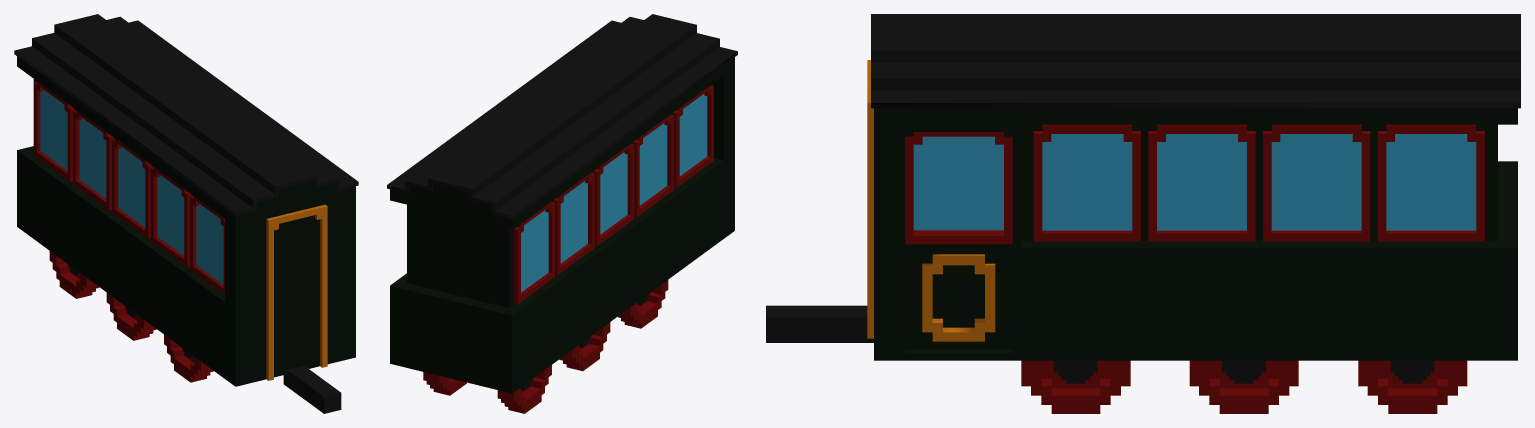
Rendered from Train_vagon_green.FBX.
3 renders of one model, left to right at view 1: azimuth 30°, elevation 25°; view 2: azimuth 150°, elevation 25°; view 3: azimuth 270°, elevation 25°, orthographic. The views are drawn at different scales.
Parts seen in each view (by area): view 1: train_vagon_door, train_vagon_roof, Vagon_green, Box001, train_tire_013, train_tire_015, train_tire_011; view 2: train_vagon_door, train_vagon_roof, Vagon_green, train_tire_013, train_tire_011, train_tire_015, train_tire_012; view 3: train_vagon_door, Vagon_green, train_vagon_roof, train_tire_012, train_tire_014, train_tire_010, Box001.
Boxes of the visible parts, box(x1,y1,x2,y2) form: train_vagon_door: box(17, 56, 355, 386); train_vagon_roof: box(14, 14, 358, 215); Vagon_green: box(34, 81, 327, 380); Box001: box(283, 366, 341, 413); train_tire_013: box(49, 251, 99, 298); train_tire_015: box(106, 293, 156, 340); train_tire_011: box(164, 334, 213, 382); train_vagon_door: box(390, 57, 734, 393); train_vagon_roof: box(387, 14, 737, 219); Vagon_green: box(513, 85, 713, 304); train_tire_013: box(497, 365, 551, 413); train_tire_011: box(618, 280, 668, 328); train_tire_015: box(559, 322, 610, 371); train_tire_012: box(423, 372, 466, 395); train_vagon_door: box(874, 108, 1517, 360); Vagon_green: box(867, 60, 1484, 341); train_vagon_roof: box(871, 14, 1520, 108); train_tire_012: box(1358, 360, 1467, 413); train_tire_014: box(1189, 360, 1298, 413); train_tire_010: box(1021, 360, 1130, 413); Box001: box(766, 305, 873, 342).
Bounding box in the file's own units: 25.88 × 47.07 × 92.73.
